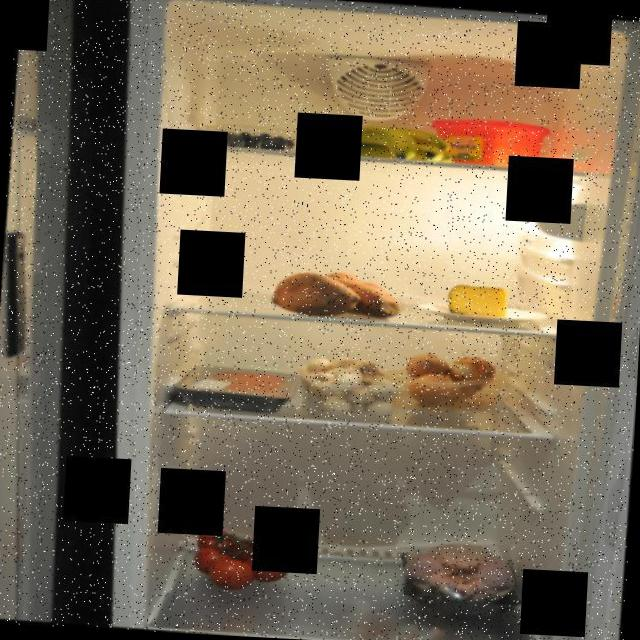Carne pollo: (396, 536, 527, 618)
Carne vacuno: (196, 366, 288, 397)
Cebolla: (400, 348, 511, 408)
Champiñones: (291, 354, 414, 424)
Mantequilla: (432, 115, 561, 172)
Plátano: (322, 117, 457, 167)
Queso: (444, 280, 512, 322)
Tomate: (192, 522, 294, 596)
